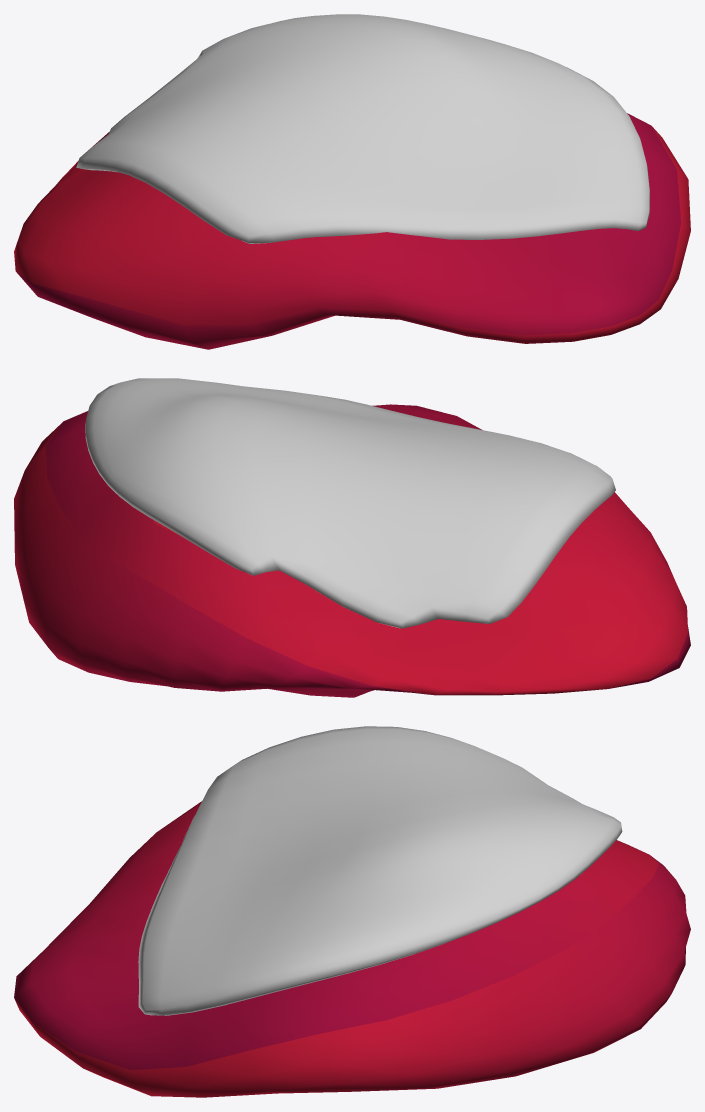
The model's file is SLAB.fbx.
3 views of the same model, one above another, from view 1: azimuth 30°, elevation 25°; view 2: azimuth 150°, elevation 25°; view 3: azimuth 270°, elevation 25° (orthographic). The views are drawn at different scales.
Parts seen in each view (by area): view 1: Cube.002; view 2: Cube.002; view 3: Cube.002.
Part boxes in pixels (x1,y1,x2,y2): Cube.002: [14, 14, 690, 349]; Cube.002: [14, 378, 690, 697]; Cube.002: [14, 726, 690, 1097].
Bounding box in the file's own units: 769 × 224 × 697.
